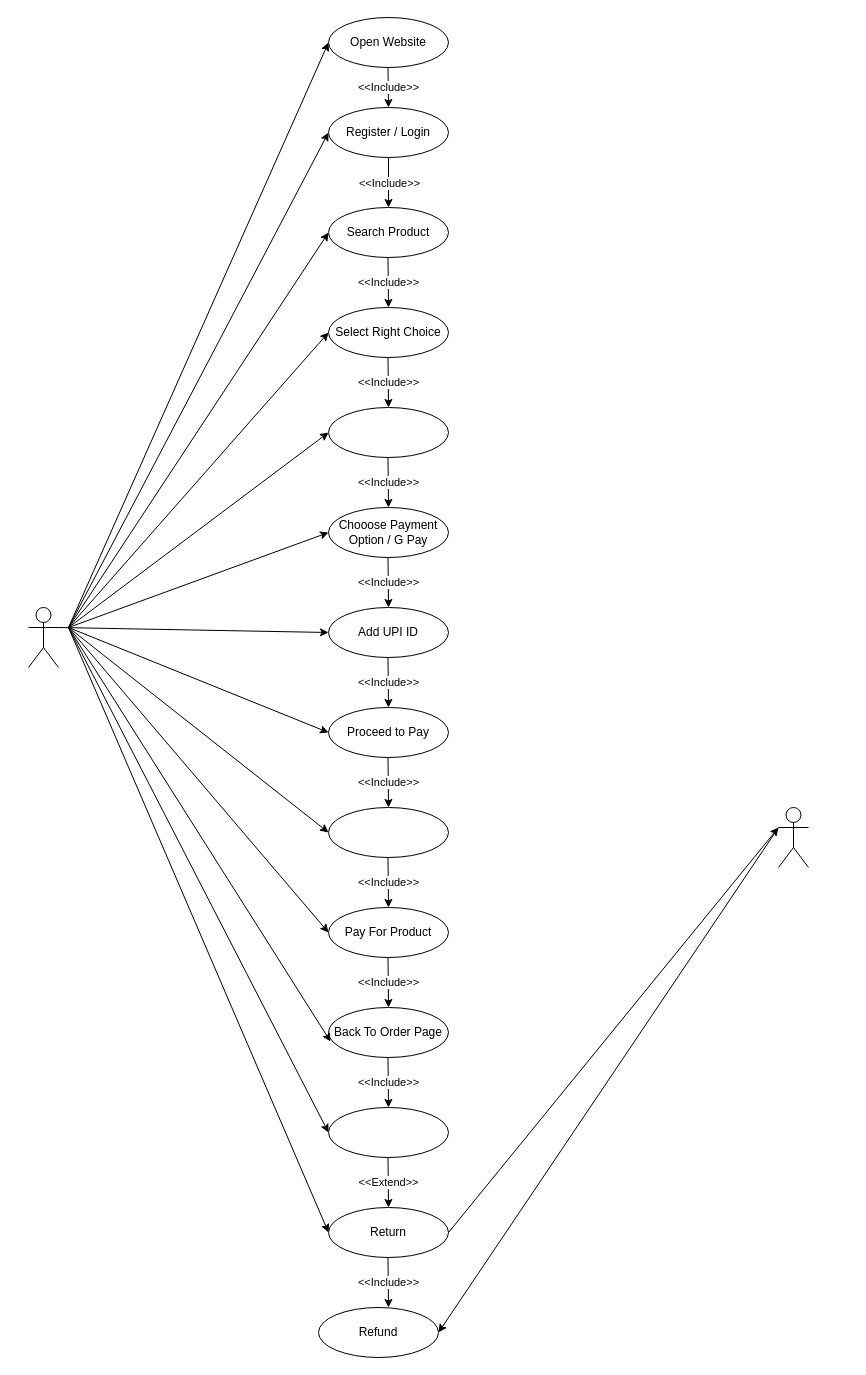
Image size: 866x1375. Some labels were removed from this diagram. Here are the shapes that lost their labels. From the top down, the box of each, then its label:
(328, 406, 448, 458): Proceed To Buy
(28, 606, 58, 668): Customer
(328, 806, 448, 858): Open G-Pay
(778, 806, 808, 868): Delivery Guy / Admin
(328, 1106, 448, 1158): Confirm
